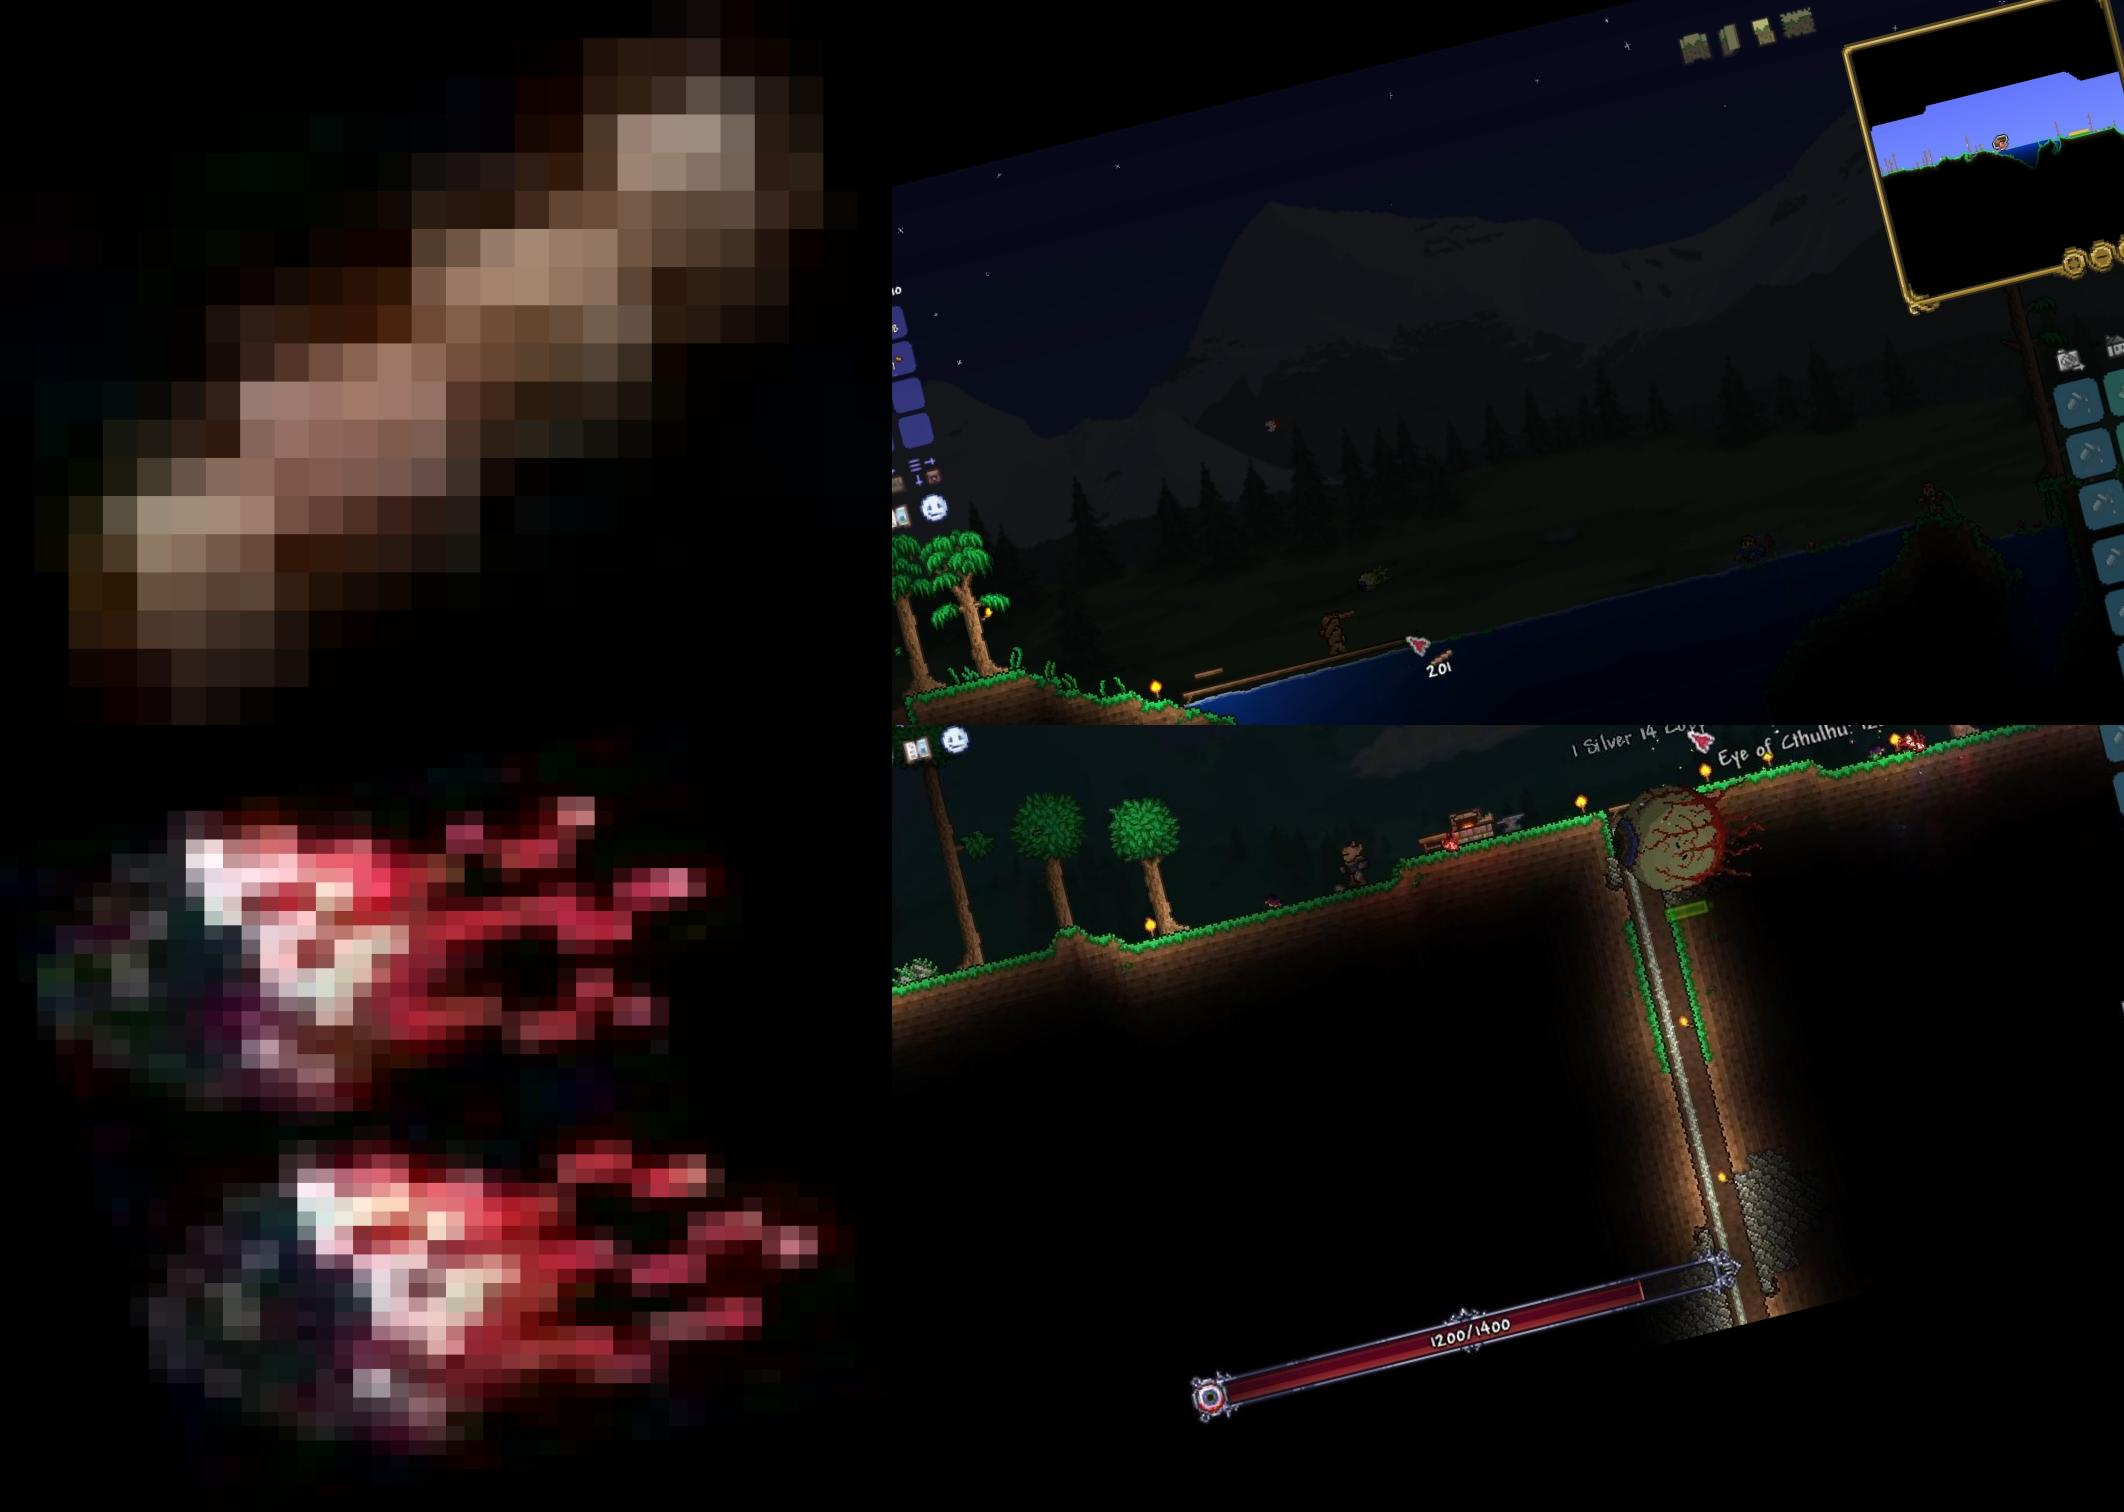eye: (0, 725, 763, 1154), (1345, 556, 1407, 597)
platform: (0, 0, 892, 725)
